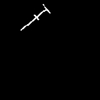double_crochet: (21, 4, 49, 29)
